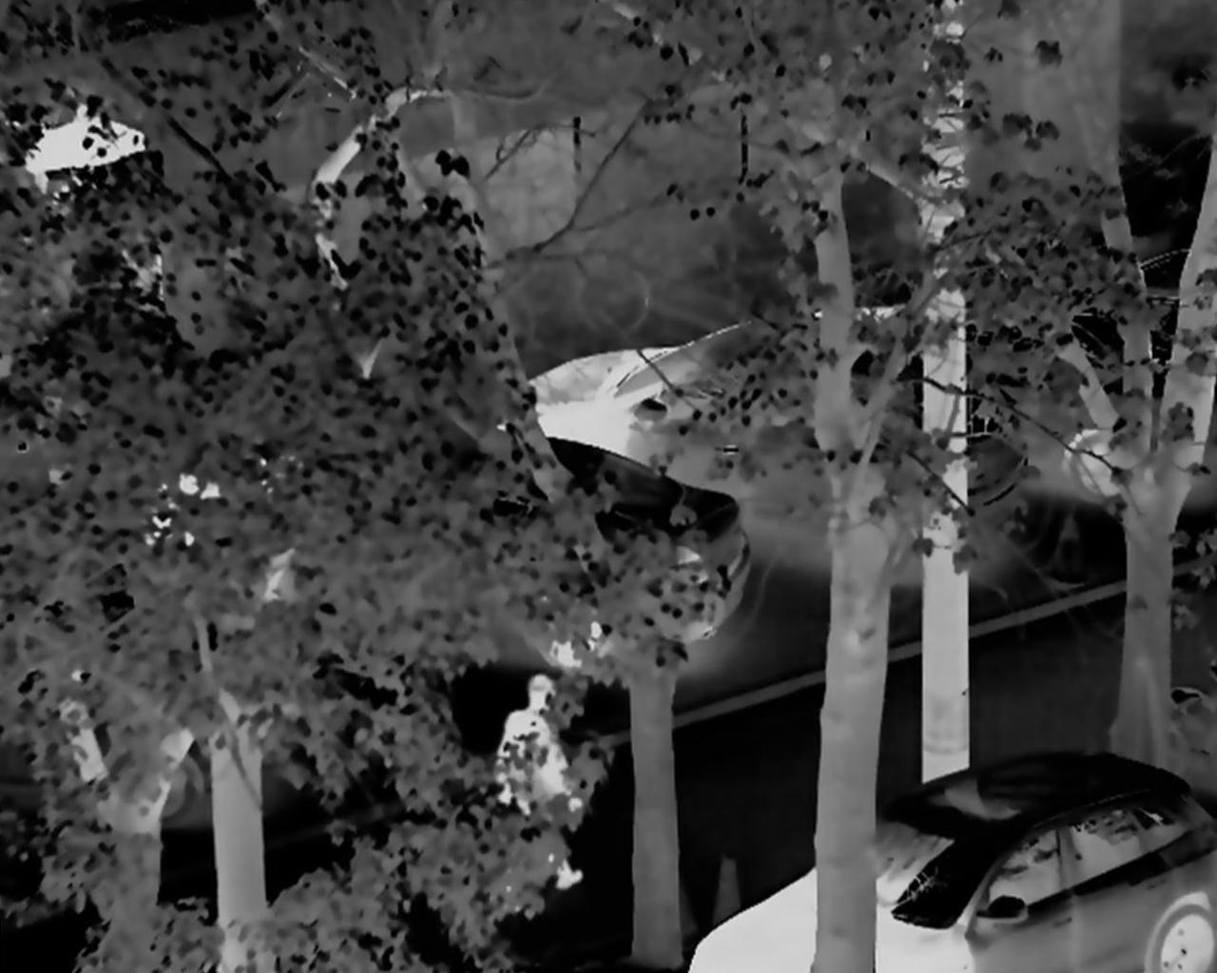person: (485, 662, 593, 901)
